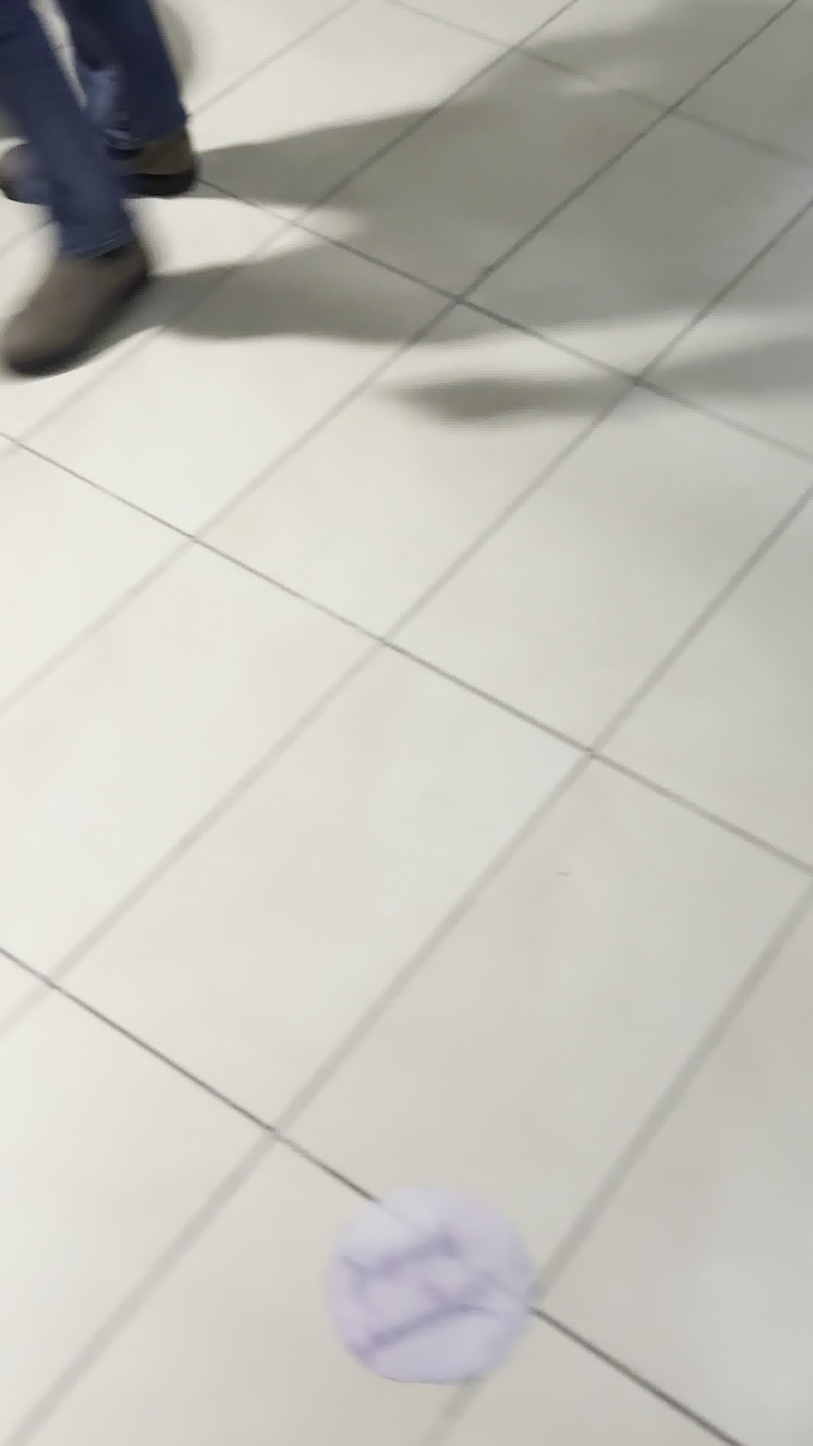Target: (322, 1188, 537, 1384)
